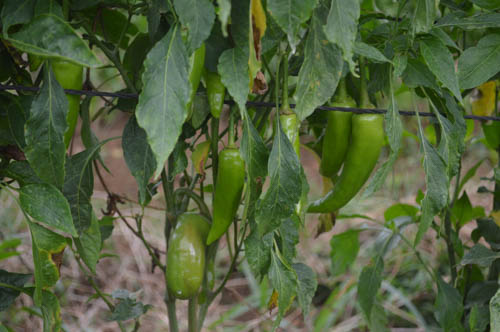ChiliPepper: (300, 113, 387, 236), (204, 148, 247, 247), (167, 213, 209, 301), (47, 58, 91, 142), (315, 100, 353, 180), (274, 110, 306, 165), (208, 72, 230, 119)
